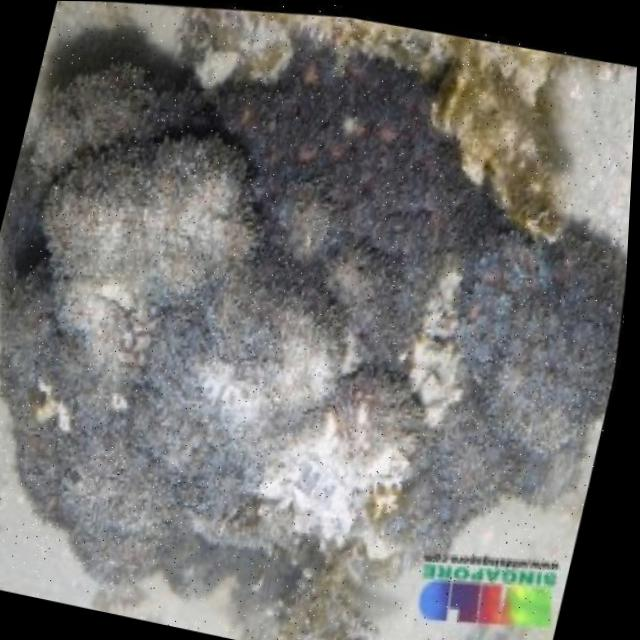Bleached Coral: (245, 384, 424, 578)
